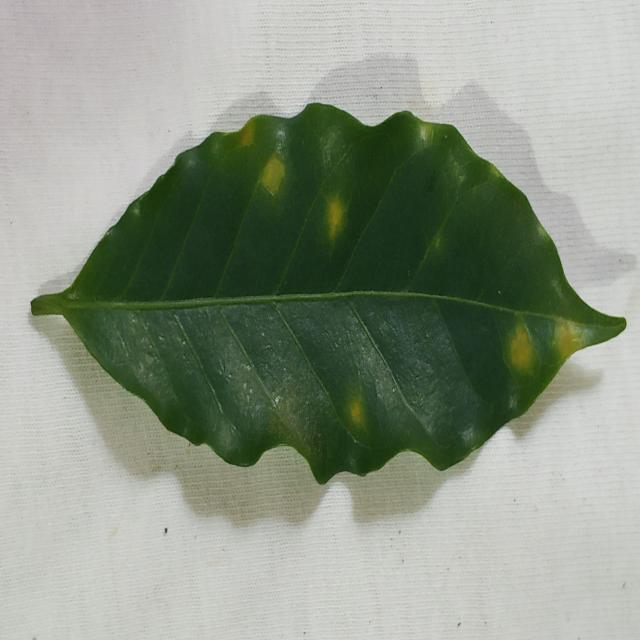Enfermedad-Roya: (29, 104, 628, 487)
